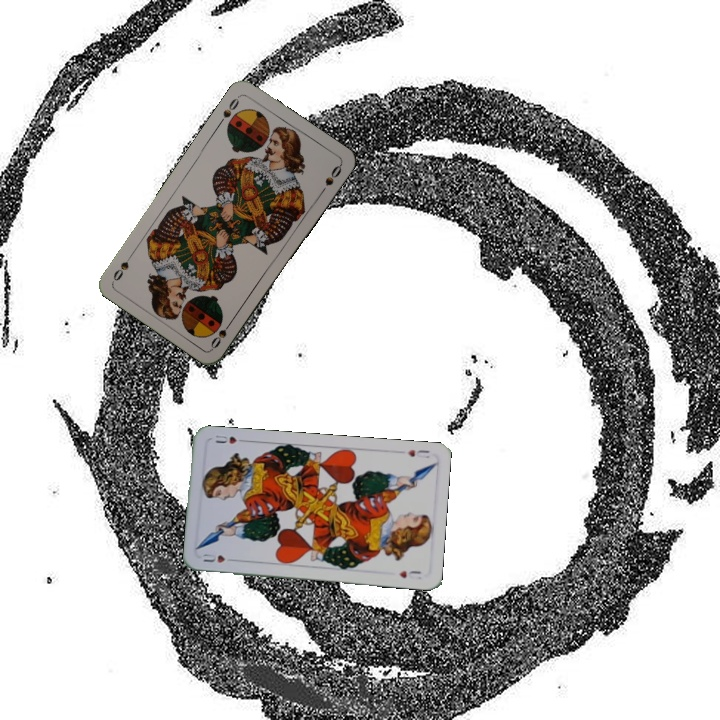HU: (198, 549, 238, 565), (403, 445, 432, 461)
SO: (206, 315, 236, 351), (215, 92, 243, 127)
